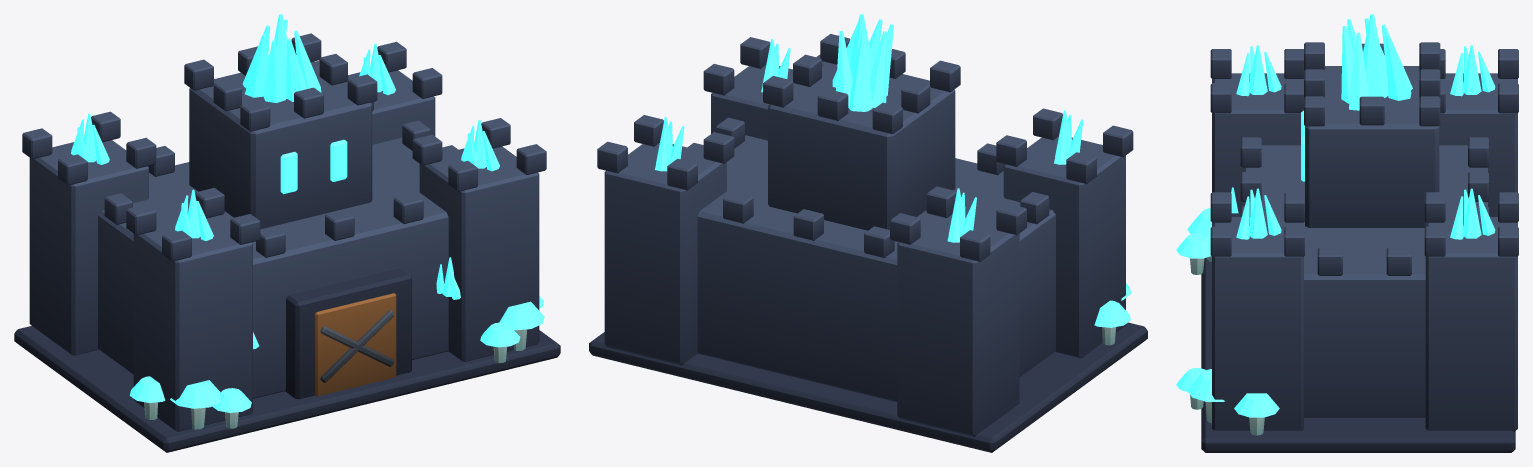
File: env_castle_cavern.glb
3 views of the same model, side by side, from view 1: azimuth 30°, elevation 25°; view 2: azimuth 150°, elevation 25°; view 3: azimuth 270°, elevation 25° (orthographic). The views are drawn at different scales.
Parts seen in each view (by area): view 1: env_castle_cavern; view 2: env_castle_cavern; view 3: env_castle_cavern.
Boxes of the visible parts, x1=… form: env_castle_cavern: x1=14, y1=14, x2=560, y2=452; env_castle_cavern: x1=589, y1=14, x2=1147, y2=452; env_castle_cavern: x1=1176, y1=14, x2=1518, y2=452.
Bounding box in the file's own units: 4.62 × 3.58 × 3.27.
Materials: 1 (1 with a texture image).
